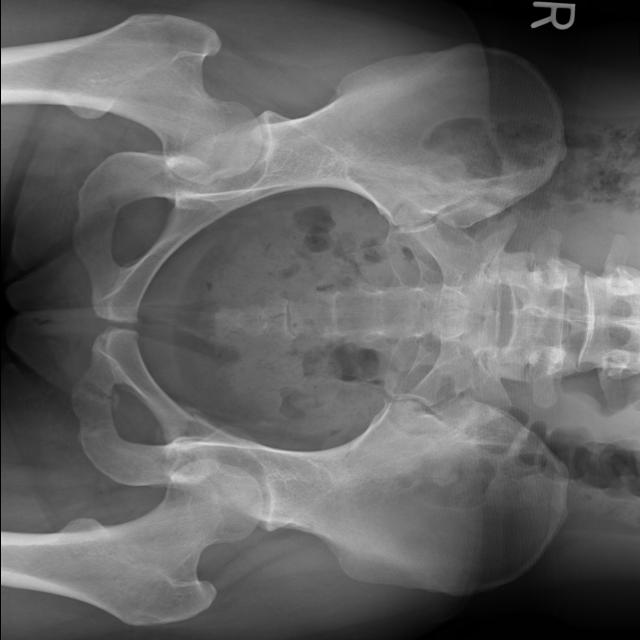normal-left: (1, 460, 262, 626)
normal-right: (0, 13, 261, 184)
